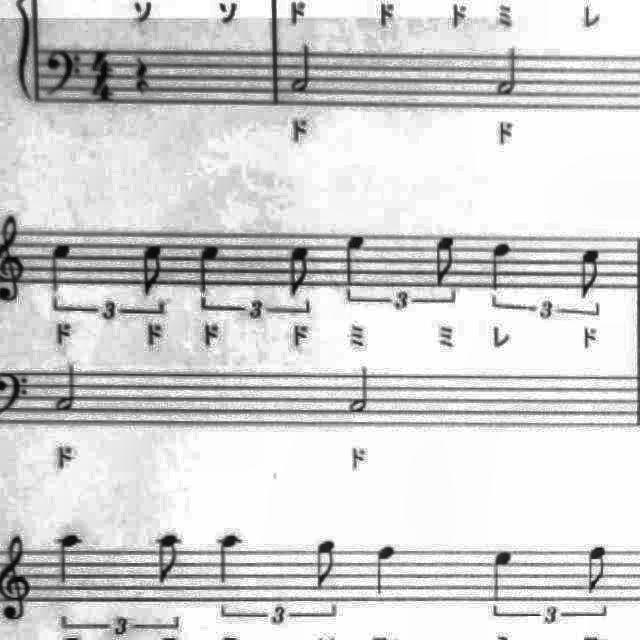Bass-clef: (41, 45, 87, 103)
Eighth-note: (133, 239, 173, 303), (280, 241, 316, 303), (580, 539, 616, 601), (428, 232, 464, 292), (308, 534, 344, 594), (152, 529, 188, 589), (574, 243, 608, 305)
Half-note: (286, 40, 324, 99), (490, 42, 528, 100), (52, 358, 88, 418), (342, 359, 378, 418)
Quarter-note: (191, 238, 229, 302), (335, 230, 373, 294), (212, 528, 250, 590), (368, 538, 404, 602), (484, 542, 520, 606), (51, 529, 88, 591), (482, 236, 518, 298), (42, 236, 78, 296)
Quarter-rest: (128, 50, 158, 100)
